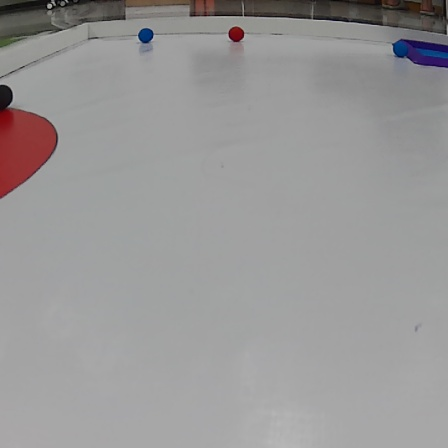black: (0, 82, 19, 115)
blue: (391, 39, 411, 61), (135, 27, 154, 46)
blue_aim: (399, 34, 448, 67)
red: (226, 25, 245, 43)
red_base: (0, 103, 61, 210)
